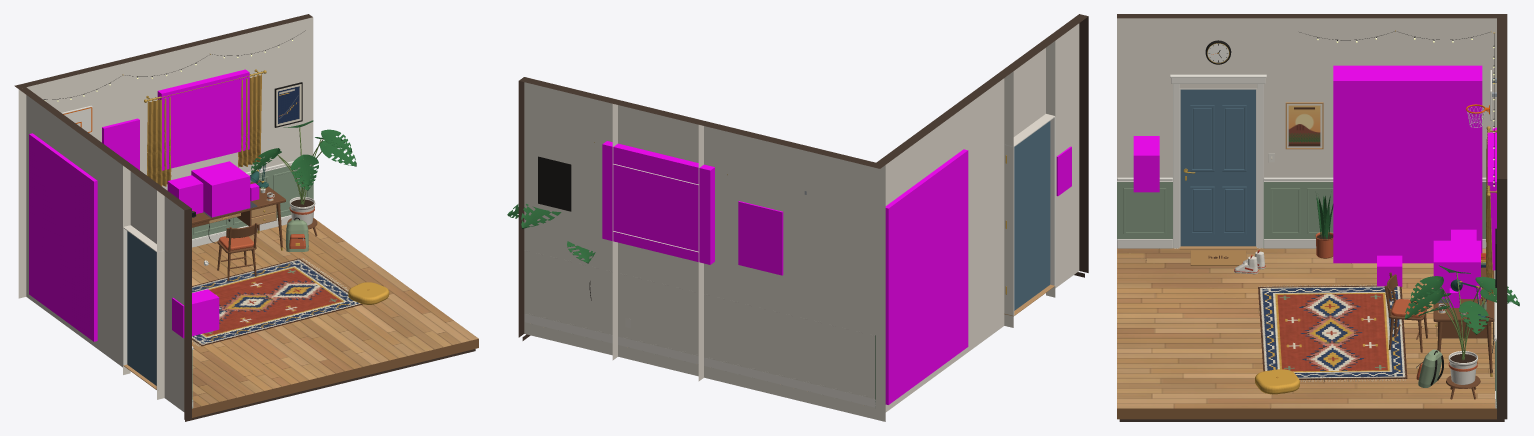
The model's file is room.52c7410012.glb.
3 views of the same model, side by side, from view 1: azimuth 30°, elevation 25°; view 2: azimuth 150°, elevation 25°; view 3: azimuth 270°, elevation 25° (orthographic). The views are drawn at different scales.
Visible parts, largest first — view 1: decor__floor, decor__wall_back__01, decor__wall_left__01, hit__shelf, decor__rug__02, hit__window, decor__door__03, decor__curtains__02, decor__wall_left__02, decor__floor_edge__01, hit__computer, decor__plants__02 (+15 smaller); view 2: decor__wall_back__01, decor__wall_left__01, hit__shelf, hit__window, decor__door__03, decor__wall_left__02, decor__wall_back__02, decor__wainscot__01, hit__letter, decor__posters__01, decor__door__04, decor__plants__02 (+1 smaller); view 3: decor__floor, decor__wall_left__01, hit__shelf, decor__rug__02, decor__door__03, decor__wainscot__02, decor__floor_edge__01, decor__wall_back__02, decor__door__04, decor__plants__02, hit__computer, decor__wall_left__02 (+17 smaller).
Part boxes in pixels (bbox=[...]): decor__floor: bbox=[192, 218, 478, 408]; decor__wall_back__01: bbox=[18, 17, 313, 298]; decor__wall_left__01: bbox=[26, 95, 184, 411]; hit__shelf: bbox=[29, 133, 97, 341]; decor__rug__02: bbox=[192, 258, 362, 346]; hit__window: bbox=[157, 69, 249, 170]; decor__door__03: bbox=[127, 231, 156, 385]; decor__curtains__02: bbox=[146, 74, 261, 186]; decor__wall_left__02: bbox=[19, 87, 191, 419]; decor__floor_edge__01: bbox=[192, 338, 478, 417]; hit__computer: bbox=[191, 161, 250, 217]; decor__plants__02: bbox=[251, 120, 356, 190]; decor__wall_back__01: bbox=[524, 82, 885, 421]; decor__wall_left__01: bbox=[885, 23, 1079, 412]; hit__shelf: bbox=[885, 149, 968, 404]; hit__window: bbox=[602, 141, 714, 264]; decor__door__03: bbox=[1014, 121, 1050, 310]; decor__wall_left__02: bbox=[876, 14, 1088, 272]; decor__wall_back__02: bbox=[518, 77, 884, 337]; decor__wainscot__01: bbox=[524, 291, 875, 407]; hit__letter: bbox=[738, 201, 783, 275]; decor__posters__01: bbox=[538, 156, 571, 211]; decor__door__04: bbox=[1004, 116, 1055, 316]; decor__plants__02: bbox=[507, 204, 595, 263]; decor__floor: bbox=[1117, 248, 1495, 408]; decor__wall_left__01: bbox=[1117, 18, 1496, 178]; hit__shelf: bbox=[1333, 65, 1482, 263]; decor__rug__02: bbox=[1258, 285, 1407, 379]; decor__door__03: bbox=[1180, 89, 1255, 246]; decor__wainscot__02: bbox=[1117, 182, 1496, 408]; decor__floor_edge__01: bbox=[1117, 408, 1496, 419]; decor__wall_back__02: bbox=[1497, 14, 1507, 419]; decor__door__04: bbox=[1170, 74, 1266, 248]; decor__plants__02: bbox=[1316, 191, 1519, 334]; hit__computer: bbox=[1433, 240, 1480, 298]; decor__wall_left__02: bbox=[1117, 14, 1496, 18].
Bounding box in the file's own units: 4.98 × 3.19 × 4.77.
Materials: 97 (6 with a texture image).
